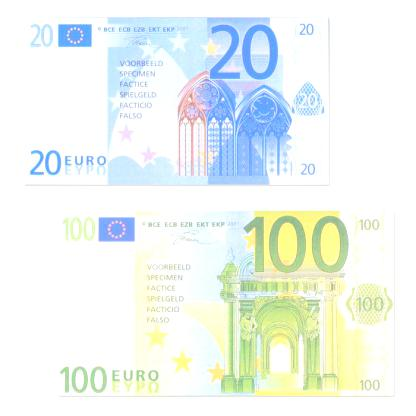euro_banknote: (44, 209, 398, 398), (12, 16, 332, 187)
